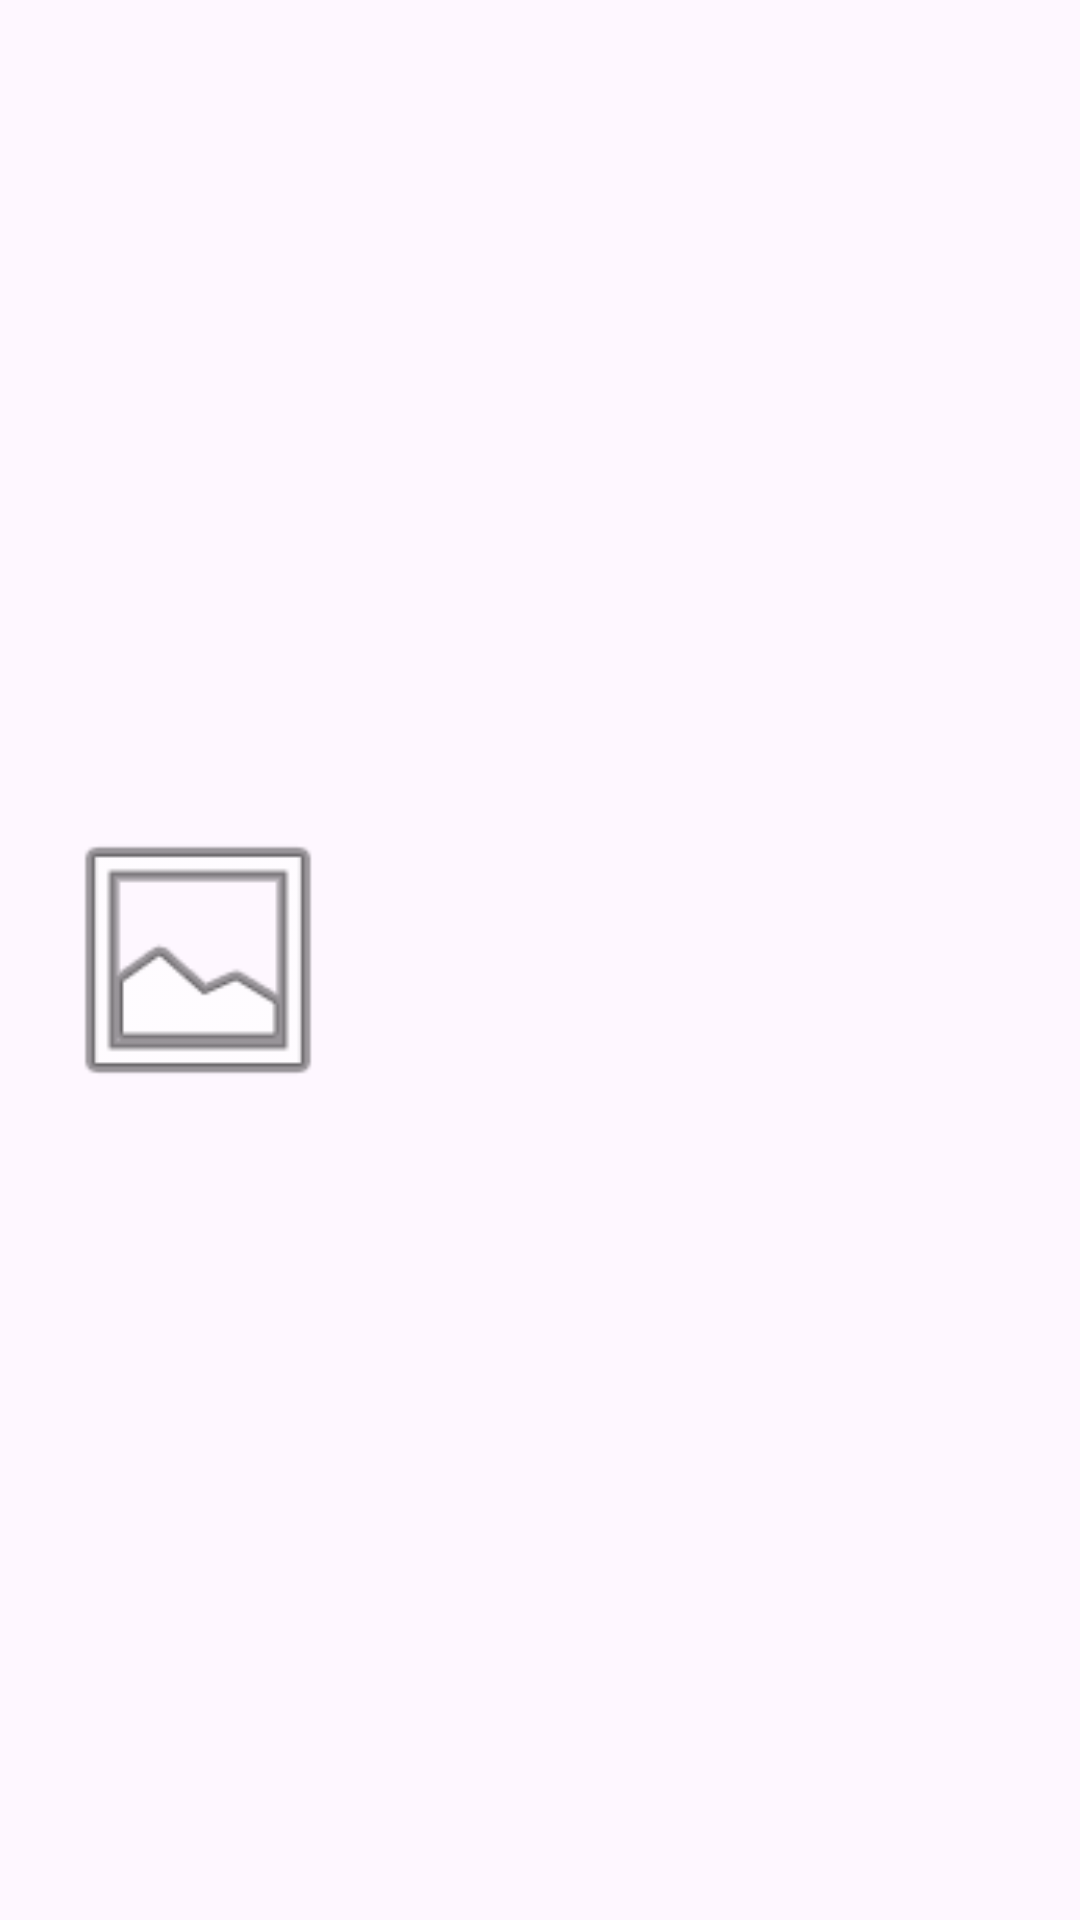

Where to tap for icons on this 1080 x 1920 app screen, as [x,y]:
gallery: [198,960]
